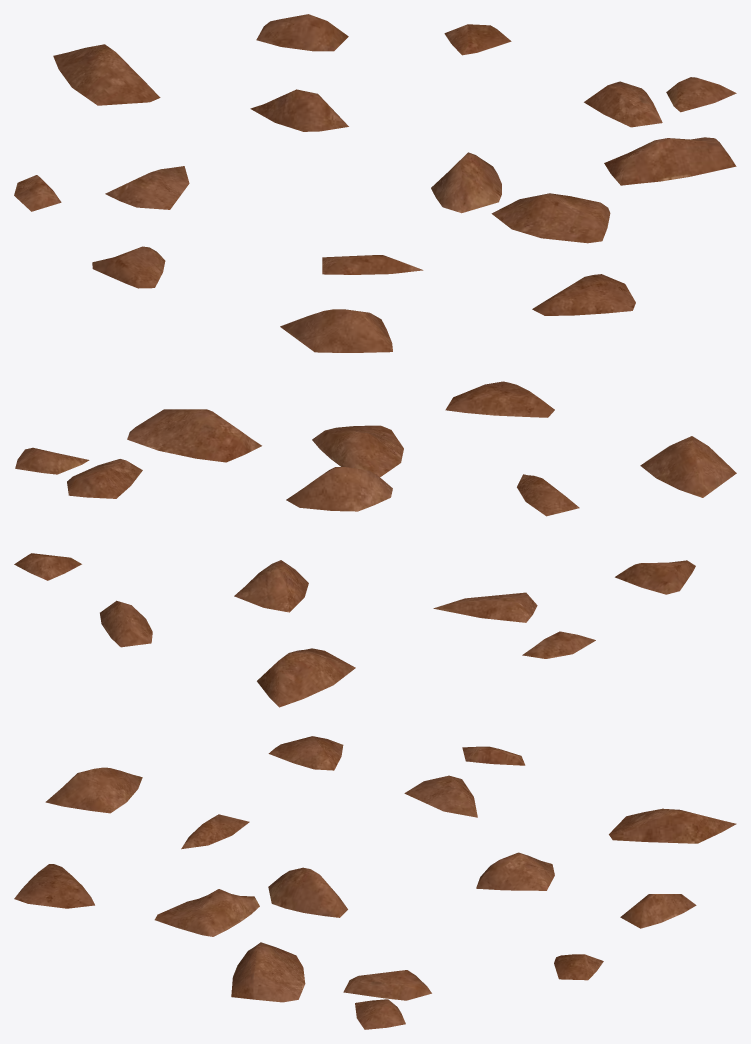
File: small_stones_02.glb
3 renders of one model, top to bottom at view 1: azimuth 30°, elevation 25°; view 2: azimuth 150°, elevation 25°; view 3: azimuth 270°, elevation 25°, orthographic. The views are drawn at different scales.
Parts seen in each view (by area): view 1: small_stones_02; view 2: small_stones_02; view 3: small_stones_02.
Part boxes in pixels (x1,y1,x2,y2): small_stones_02: [14, 14, 736, 352]; small_stones_02: [14, 381, 736, 707]; small_stones_02: [14, 736, 736, 1029].
Size of the model in its own units: 1.83 by 0.0879 by 1.94.
Materials: 1 (1 with a texture image).
